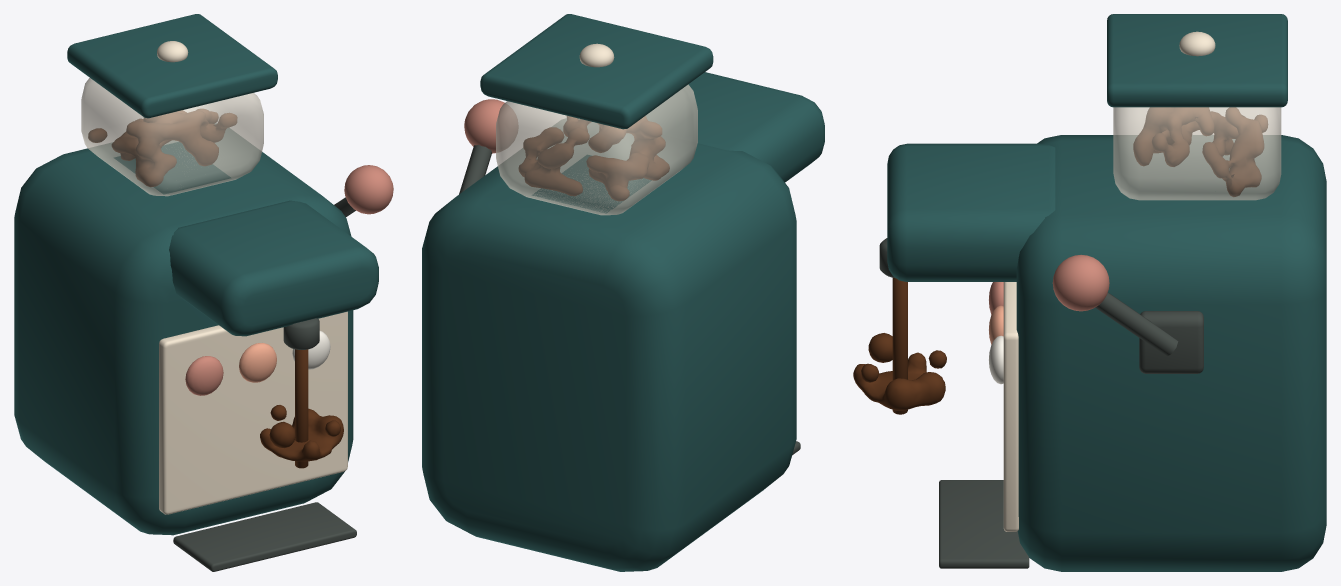
The model's file is coffee_machine.glb.
3 renders of one model, left to right at view 1: azimuth 30°, elevation 25°; view 2: azimuth 150°, elevation 25°; view 3: azimuth 270°, elevation 25°, orthographic. The views are drawn at different scales.
Parts seen in each view (by area): view 1: Body, Panel, Head, Hopper, LidShell, Grille, BeanFill, SplashDrops, LeverBall, Stream, Button0, Button1 (+3 smaller); view 2: Body, Hopper, LidShell, Head, BeanFill, LeverBall, LeverArm, LidKnob; view 3: Body, Head, LidShell, Hopper, BeanFill, Grille, SplashDrops, Panel, LeverBoss, LeverBall, LeverArm, Stream (+2 smaller).
Boxes of the visible parts, box(x1,y1,x2,y2) form: Body: box(14, 128, 353, 535); Panel: box(159, 311, 347, 514); Head: box(169, 200, 378, 336); Hopper: box(81, 78, 263, 196); LidShell: box(67, 14, 277, 118); Grille: box(173, 502, 356, 571); BeanFill: box(88, 108, 237, 186); SplashDrops: box(260, 405, 343, 461); LeverBall: box(344, 165, 393, 214); Stream: box(295, 349, 308, 468); Button0: box(185, 356, 223, 395); Button1: box(239, 343, 276, 382); Body: box(422, 118, 796, 571); Hopper: box(496, 84, 697, 215); LidShell: box(480, 14, 713, 129); Head: box(646, 72, 824, 182); BeanFill: box(518, 116, 669, 201); LeverBall: box(464, 99, 517, 153); LeverArm: box(459, 145, 491, 194); LidKnob: box(579, 43, 614, 67); Body: box(1016, 135, 1326, 571); Head: box(887, 143, 1055, 281); LidShell: box(1107, 14, 1287, 107); Hopper: box(1113, 107, 1281, 200); BeanFill: box(1133, 107, 1268, 196); Grille: box(939, 480, 1029, 568); SplashDrops: box(853, 333, 946, 410); Panel: box(1003, 282, 1018, 531); LeverBoss: box(1139, 311, 1203, 373); LeverBall: box(1052, 254, 1109, 311); LeverArm: box(1095, 292, 1178, 356); Stream: box(892, 278, 907, 414).
Size of the model in its own units: 0.292 by 0.4228 by 0.3663.
